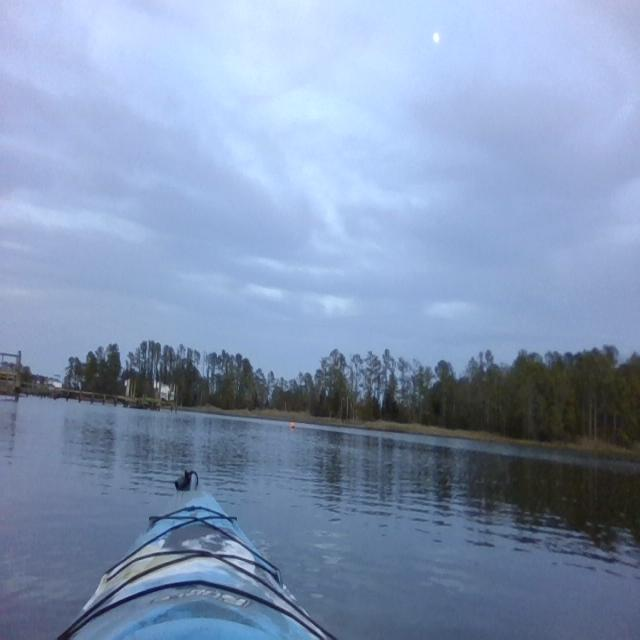Buoy: (289, 420, 296, 430)
